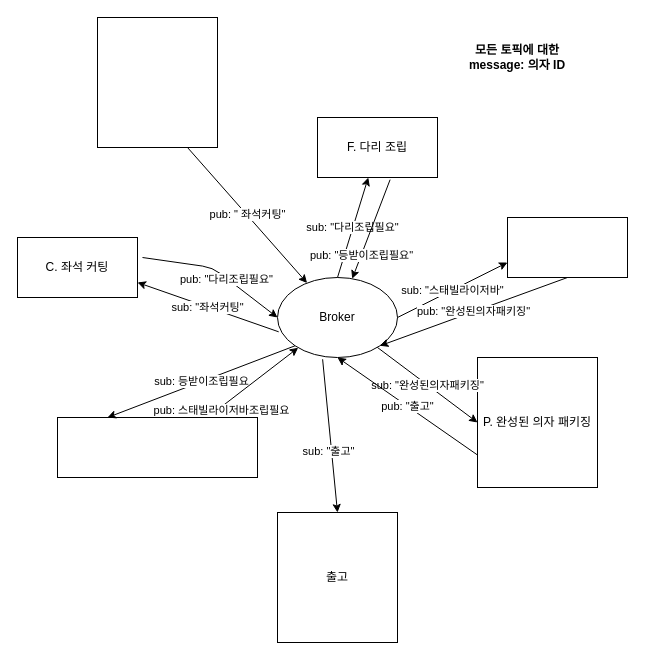
The diagram is 645 pixels wide and 660 high, and some of its shapes have lost their labels. The box of each missing label's shape, as (x1, y1, x2, y2) in pixels:
B. 등받이 조립: (56, 416, 258, 478)
S. 스태빌라이저 바 조립: (506, 216, 628, 278)
조립시작: (96, 16, 218, 148)
